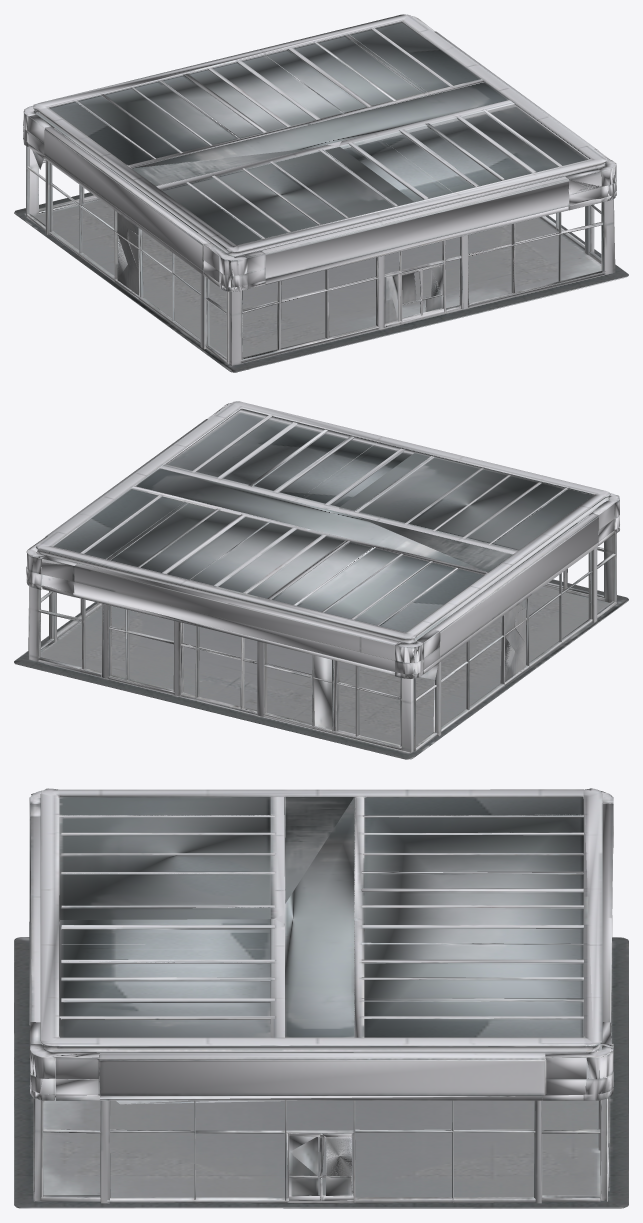
Rendered from paviljonki_meshy.glb.
3 views of the same model, one above another, from view 1: azimuth 30°, elevation 25°; view 2: azimuth 150°, elevation 25°; view 3: azimuth 270°, elevation 25° (orthographic). The views are drawn at different scales.
Size of the model in its own units: 22.42 by 6 by 21.52.
1 material, 1 textured.
